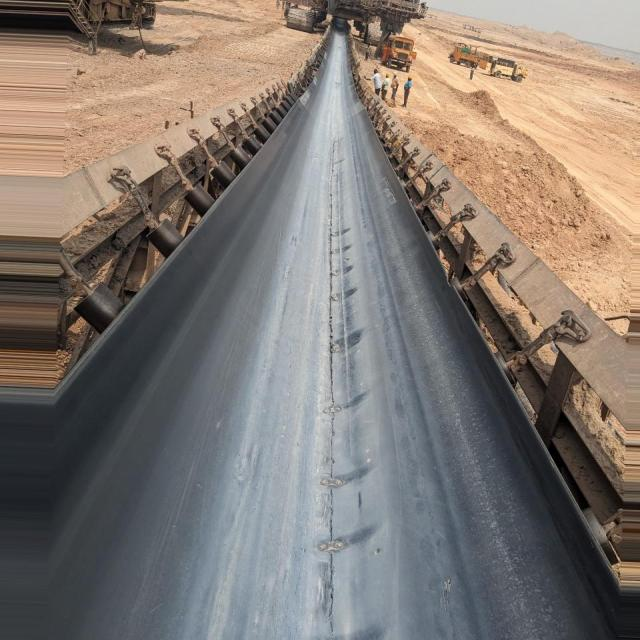Human: (366, 68, 384, 99), (401, 77, 412, 106), (390, 76, 397, 98), (382, 75, 390, 93)
Roller: (59, 109, 293, 359)
patch work: (309, 168, 360, 627)
